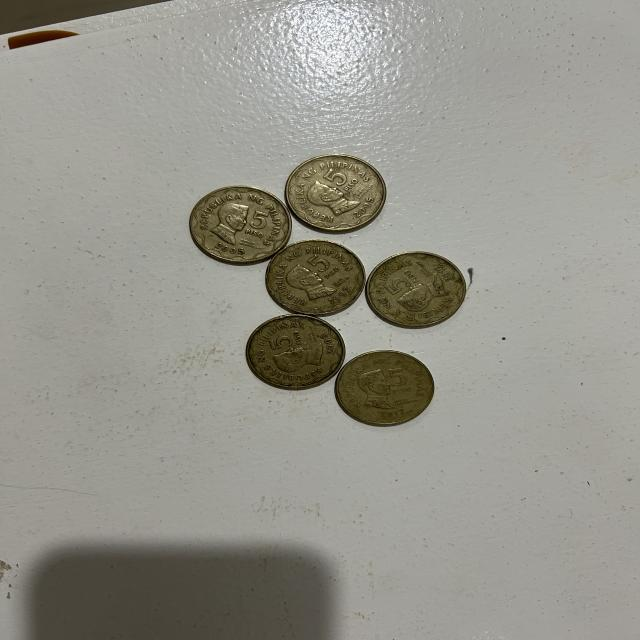5_Old_Front: (319, 168, 367, 196), (299, 253, 345, 280), (243, 209, 274, 245), (389, 365, 420, 401), (380, 270, 421, 296), (264, 330, 307, 352)
